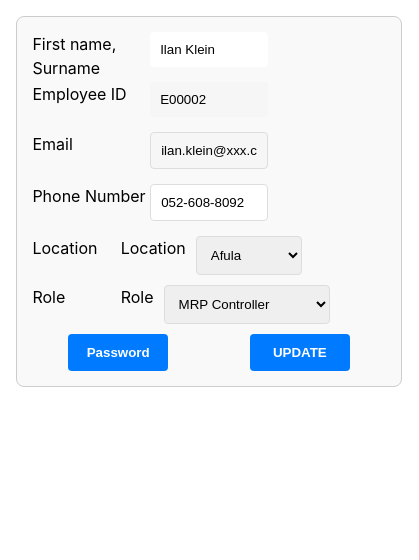
Test case: UserEdit › Clicks on Password button
Click the button "Password". click: (118, 352)
box: [68,334,168,371]
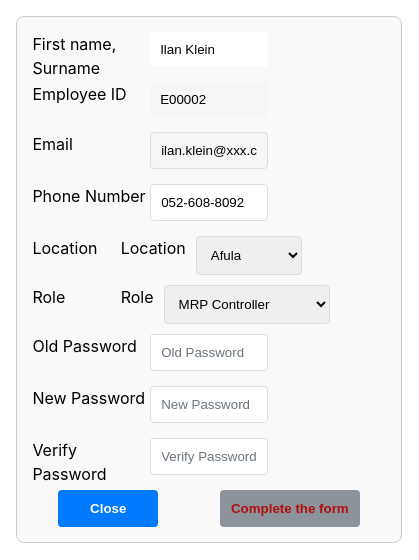
Now the password field with placeholder "Old Password" is shown, box [150,334,268,371]
Now the password field with placeholder "New Password" is shown, box [150,386,268,423]
Now the password field with placeholder "Verify Password" is shown, box [150,438,268,475]
